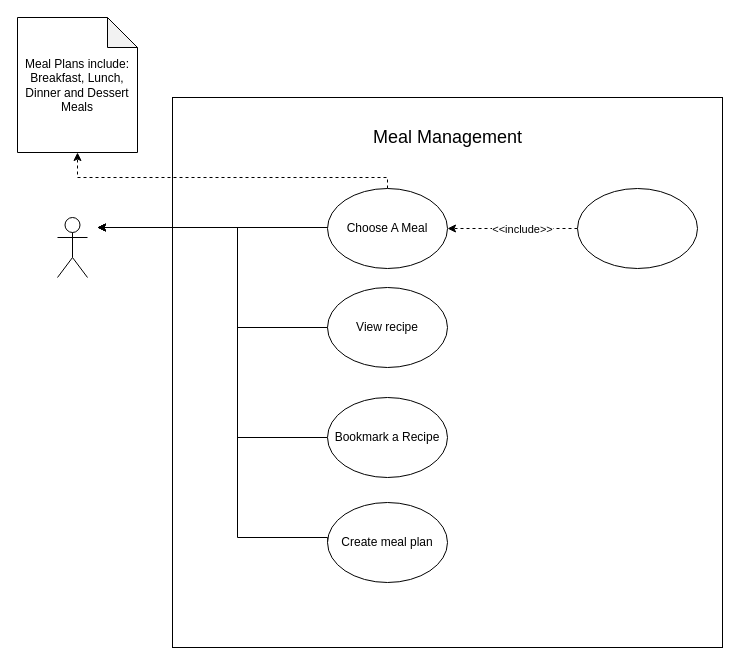
This 740x665 diagram has some shape labels left out. Here are the shapes that lost their labels. From the top down, the centre of each, then its label:
the point at 72,247: User
the point at 637,228: Watch meal preparation.
